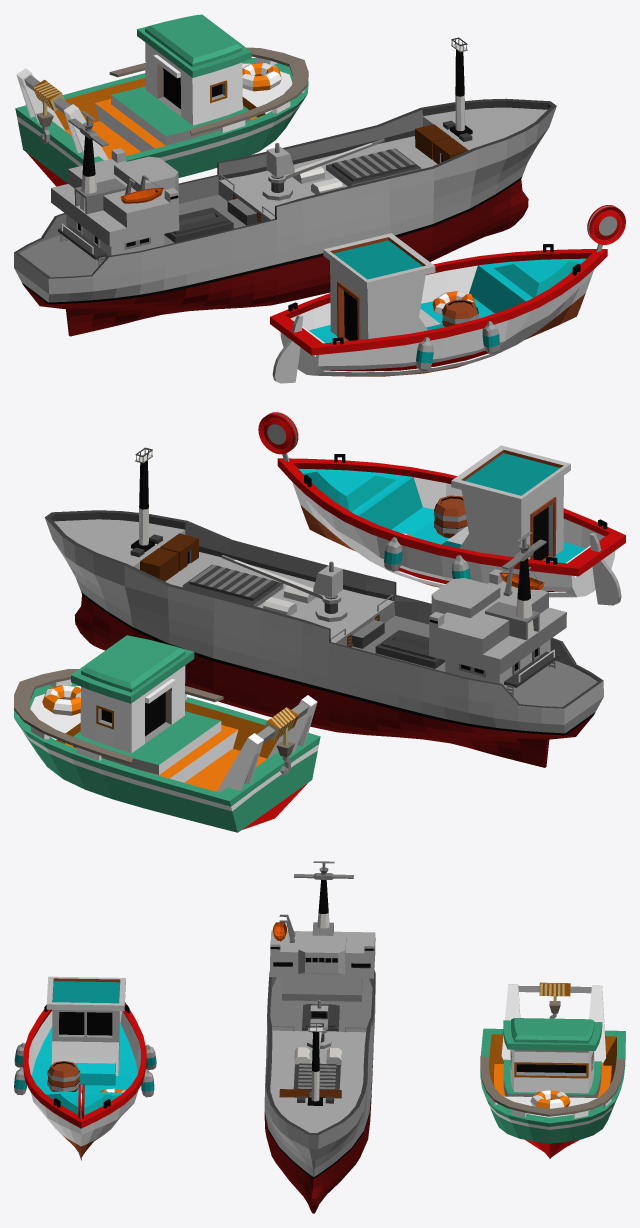
Rendered from newBoats.glb.
The picture shows the model from 3 angles, top to bottom: view 1: azimuth 30°, elevation 25°; view 2: azimuth 150°, elevation 25°; view 3: azimuth 270°, elevation 25°; orthographic projection. The views are drawn at different scales.
Visible parts, largest first — view 1: big_ship_2_bigship2_texture_0, fishingboat_greek_Greek_fishingboat_textures_0, FishingBoat_FishingBoat_Texture_0; view 2: big_ship_2_bigship2_texture_0, FishingBoat_FishingBoat_Texture_0, fishingboat_greek_Greek_fishingboat_textures_0; view 3: big_ship_2_bigship2_texture_0, FishingBoat_FishingBoat_Texture_0, fishingboat_greek_Greek_fishingboat_textures_0.
Boxes of the visible parts, <box> form: big_ship_2_bigship2_texture_0: <box>14,37,556,336</box>; fishingboat_greek_Greek_fishingboat_textures_0: <box>270,205,625,383</box>; FishingBoat_FishingBoat_Texture_0: <box>15,14,308,186</box>; big_ship_2_bigship2_texture_0: <box>45,447,603,767</box>; FishingBoat_FishingBoat_Texture_0: <box>14,635,320,832</box>; fishingboat_greek_Greek_fishingboat_textures_0: <box>258,412,625,605</box>; big_ship_2_bigship2_texture_0: <box>264,861,375,1213</box>; FishingBoat_FishingBoat_Texture_0: <box>480,982,625,1158</box>; fishingboat_greek_Greek_fishingboat_textures_0: <box>14,976,156,1160</box>.
Size of the model in its own units: 13.08 by 5.2 by 15.71.
3 materials, 3 textured.
